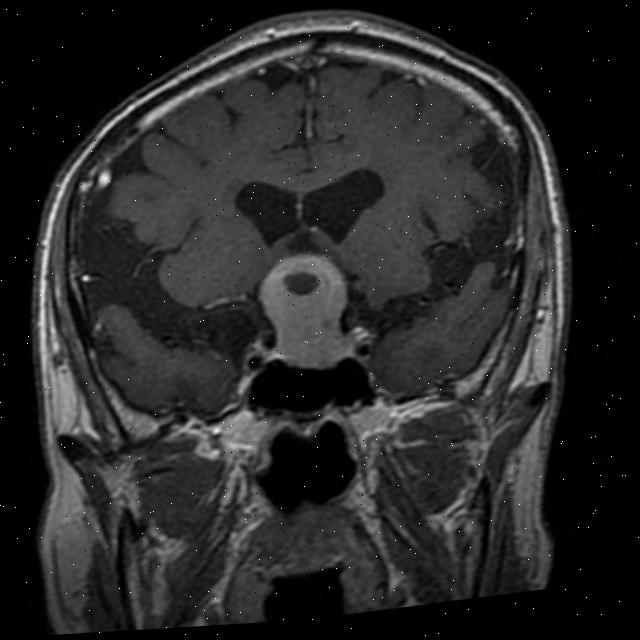Pituitary: (248, 245, 359, 378)
